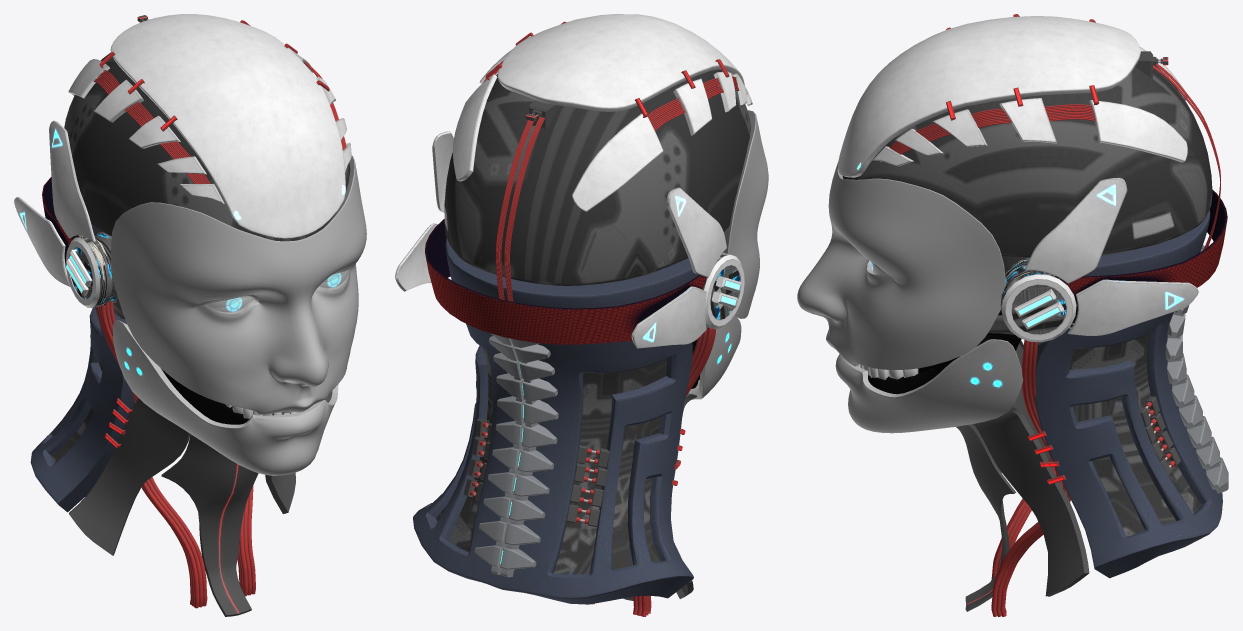
The model's file is robo_face.glb.
3 views of the same model, side by side, from view 1: azimuth 30°, elevation 25°; view 2: azimuth 150°, elevation 25°; view 3: azimuth 270°, elevation 25° (orthographic). The views are drawn at different scales.
Parts seen in each view (by area): view 1: polySurface1, polySurface4, polySurface12, polySurface2, NECK, polySurface10, polySurface8, polySurface18, polySurface16, pCylinder55, pCylinder1, pCylinder34 (+4 smaller); view 2: NECK, polySurface12, polySurface4, pCube12, polySurface13, polySurface18, polySurface16, polySurface1, pCylinder54, pCylinder1, polySurface2, pCylinder55 (+4 smaller); view 3: NECK, polySurface12, polySurface1, polySurface4, polySurface18, polySurface2, polySurface10, polySurface16, pCube12, pCylinder1, pCylinder55, polySurface13 (+5 smaller).
Part boxes in pixels (x1,y1,x2,y2): polySurface1: [110, 155, 366, 414]; polySurface4: [110, 14, 345, 238]; polySurface12: [64, 52, 350, 241]; polySurface2: [113, 320, 338, 475]; NECK: [30, 225, 135, 512]; polySurface10: [69, 398, 295, 555]; polySurface8: [161, 412, 285, 616]; polySurface18: [14, 120, 95, 286]; polySurface16: [68, 49, 351, 203]; pCylinder55: [97, 301, 255, 608]; pCylinder1: [66, 231, 118, 307]; pCylinder34: [93, 61, 346, 183]; NECK: [413, 237, 698, 604]; polySurface12: [444, 69, 751, 285]; polySurface4: [497, 14, 744, 111]; pCube12: [474, 333, 558, 577]; polySurface13: [425, 219, 706, 344]; polySurface18: [395, 131, 726, 348]; polySurface16: [452, 36, 752, 212]; polySurface1: [723, 110, 768, 318]; pCylinder54: [463, 419, 609, 526]; pCylinder1: [698, 252, 744, 329]; polySurface2: [688, 315, 741, 399]; pCylinder55: [591, 327, 716, 616]; NECK: [1035, 209, 1222, 578]; polySurface12: [842, 65, 1212, 257]; polySurface1: [797, 162, 1005, 369]; polySurface4: [838, 16, 1140, 177]; polySurface18: [1024, 178, 1198, 335]; polySurface2: [835, 339, 1023, 433]; polySurface10: [973, 340, 1089, 596]; polySurface16: [872, 47, 1187, 166]; pCube12: [1165, 245, 1228, 493]; pCylinder1: [1000, 257, 1076, 342]; pCylinder55: [991, 340, 1070, 616]; polySurface13: [1055, 189, 1227, 326].
Size of the model in its own units: 8.3 by 17.19 by 11.66.
Materials: 13 (13 with a texture image).
